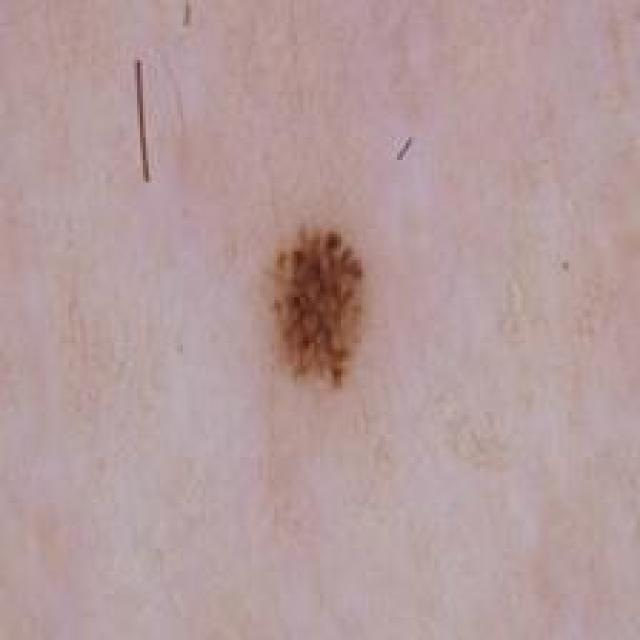Cancer: (266, 223, 366, 388)
